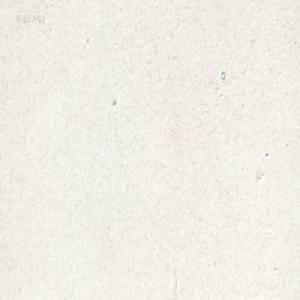Washer: (219, 69, 225, 80)
